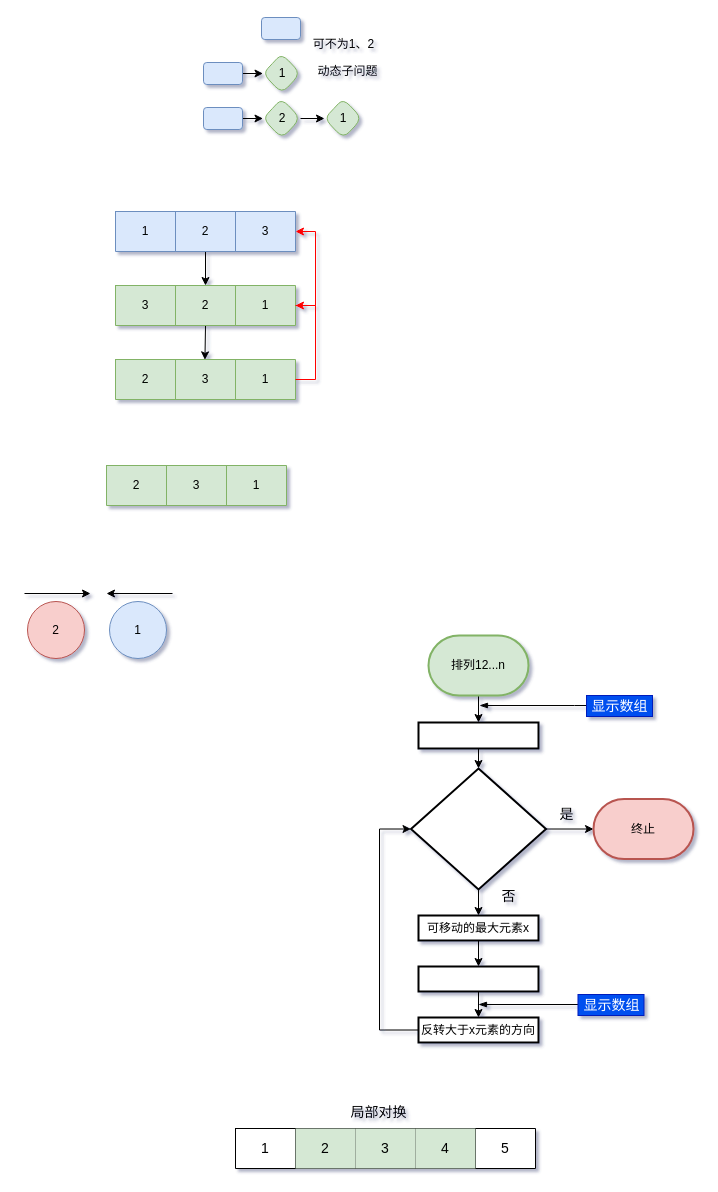
The diagram is 718 pixels wide and 1192 high, and some of its shapes have lost their labels. The shapes that lost their labels are listed below. From the top down, each one's box as (x1, y1, x2, y2) in pixels, then its label:
(260, 16, 300, 40): 123...n
(202, 62, 242, 84): 23...n
(202, 106, 242, 130): 3...n
(417, 721, 539, 749): 方向一律向左
(410, 767, 546, 890): 全为不可移动元素
(417, 965, 539, 992): 与指向的元素交换
